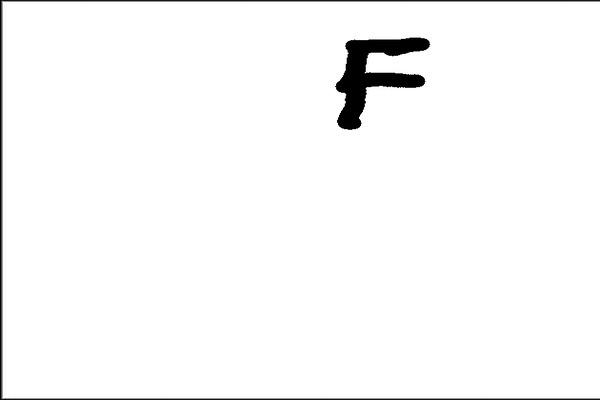F: (328, 32, 432, 136)
